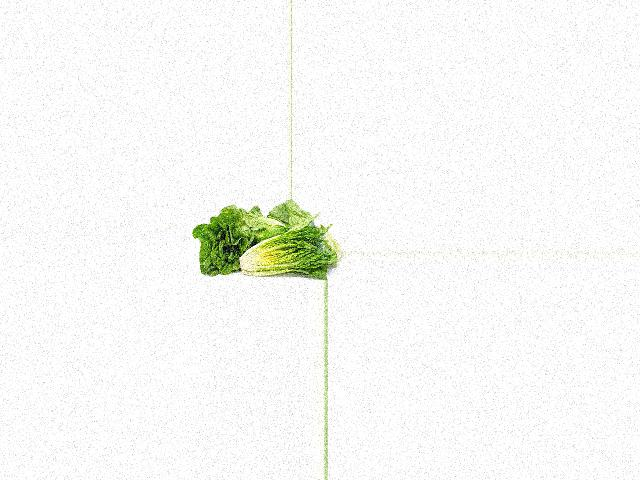lettuce: (195, 205, 282, 281)
